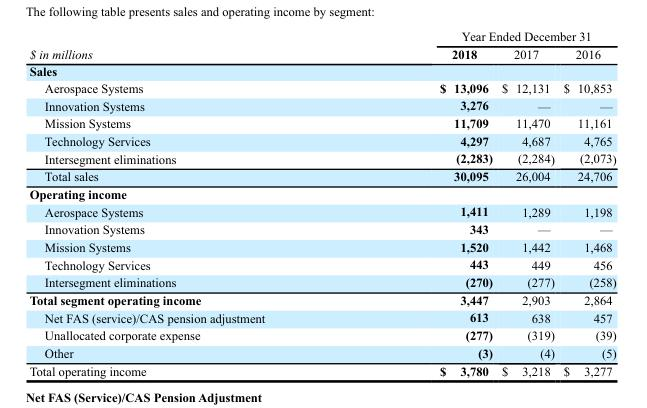table: (28, 28, 615, 377)
table column: (28, 28, 351, 377), (351, 28, 496, 377), (496, 28, 558, 377), (558, 28, 615, 377)
table column header: (28, 28, 615, 62)
table projected row header: (28, 184, 615, 202), (28, 62, 615, 79)
table row: (28, 44, 615, 62), (28, 96, 615, 114), (28, 131, 615, 149), (28, 149, 615, 167), (28, 184, 615, 202), (28, 202, 615, 220), (28, 237, 615, 255), (28, 255, 615, 273), (28, 290, 615, 308), (28, 308, 615, 326), (28, 343, 615, 361), (28, 62, 615, 79), (28, 79, 615, 96), (28, 114, 615, 131), (28, 167, 615, 184), (28, 220, 615, 237), (28, 273, 615, 290), (28, 326, 615, 343), (28, 28, 615, 44), (28, 361, 615, 377)
table spanning cell: (28, 28, 351, 62), (351, 28, 615, 44)
